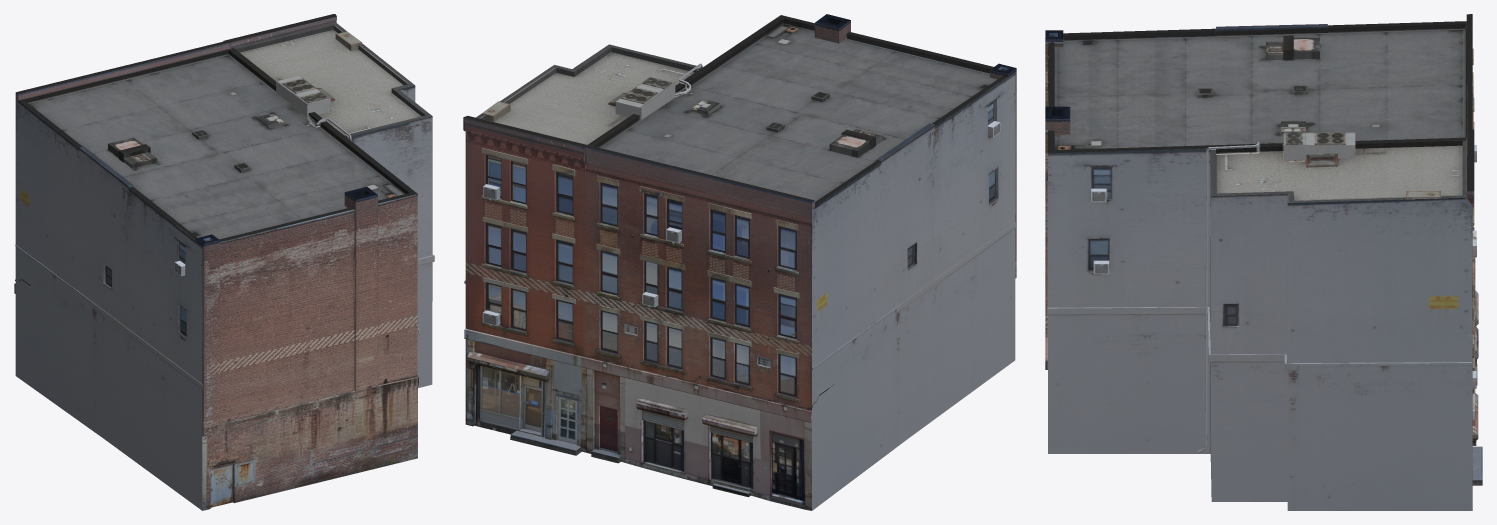
The model's file is brooklyn_street_building_low_poly.glb.
The picture shows the model from 3 angles, left to right: view 1: azimuth 30°, elevation 25°; view 2: azimuth 150°, elevation 25°; view 3: azimuth 270°, elevation 25°; orthographic projection. The views are drawn at different scales.
Visible parts, largest first — view 1: NYC_B3_0; view 2: NYC_B3_0; view 3: NYC_B3_0.
Boxes of the visible parts, x1,y1,x2,y2 form: NYC_B3_0: (14,14,434,510); NYC_B3_0: (463,14,1016,510); NYC_B3_0: (1045,14,1482,510).
Size of the model in its own units: 17.71 by 14.85 by 18.21.
1 material, 1 textured.
